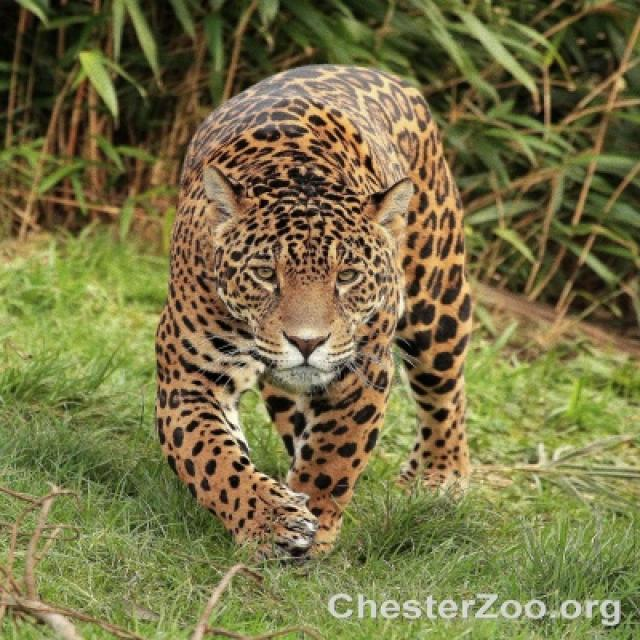Jaguar: (154, 64, 475, 563)
